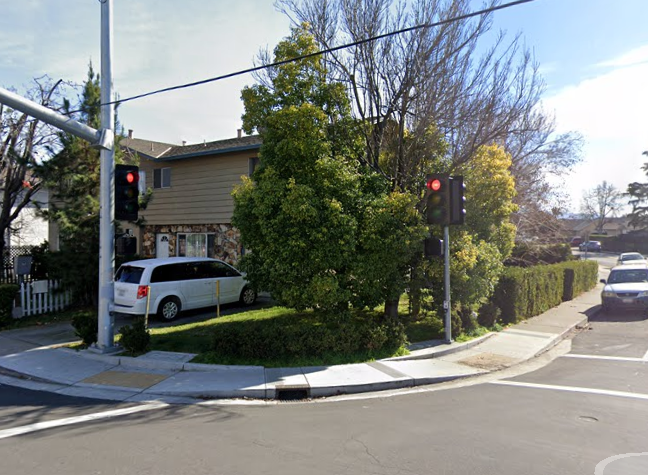red_light: (118, 165, 139, 222), (426, 175, 448, 225)
